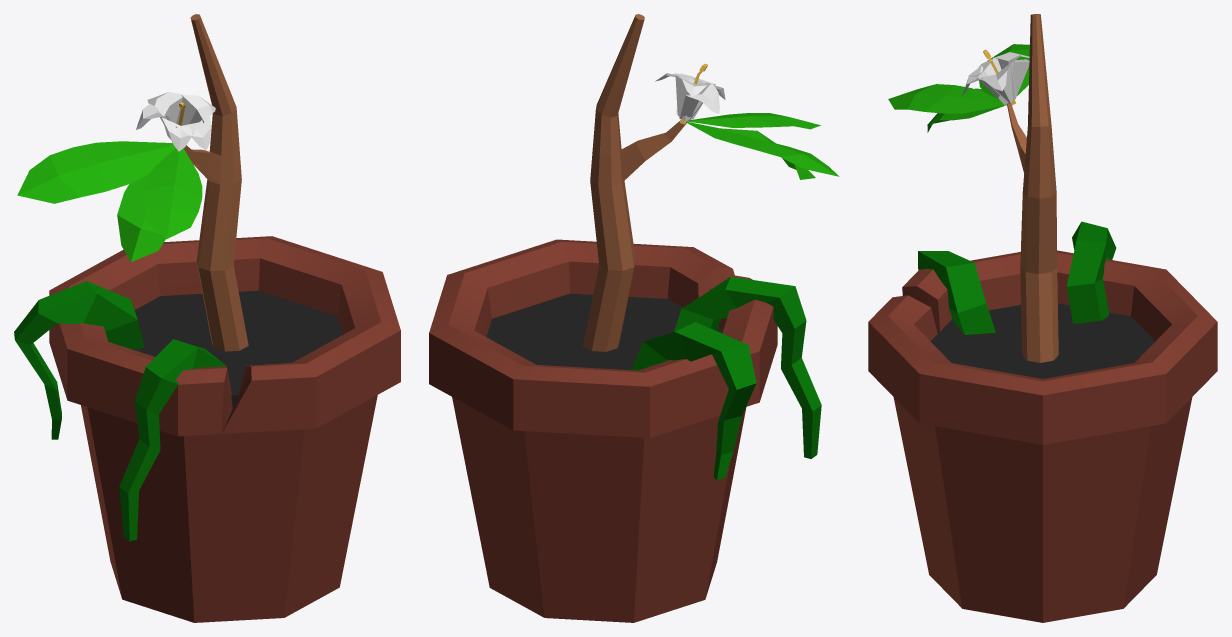
Rendered from PlantPot-2.fbx.
3 views of the same model, side by side, from view 1: azimuth 30°, elevation 25°; view 2: azimuth 150°, elevation 25°; view 3: azimuth 270°, elevation 25° (orthographic). The views are drawn at different scales.
Parts seen in each view (by area): view 1: PlantPot.Broken, Cylinder.001, Cylinder, Cube.001, Leaf, Cube, Plane.001, Leaf.001, FlowerLeaf, FlowerLeaf.001, FlowerLeaf.002; view 2: PlantPot.Broken, Cylinder.001, Cylinder, Cube, Cube.001, Leaf, Plane.001, FlowerLeaf.004, FlowerLeaf.001, Leaf.001; view 3: PlantPot.Broken, Cylinder.001, Cylinder, Cube.001, Cube, Plane.001, FlowerLeaf, Leaf, Leaf.001.
Boxes of the visible parts, <box> form: PlantPot.Broken: <box>49,236,400,622</box>; Cylinder.001: <box>183,14,248,351</box>; Cylinder: <box>133,290,342,407</box>; Cube.001: <box>14,281,144,439</box>; Leaf: <box>17,141,175,203</box>; Cube: <box>119,339,226,541</box>; Plane.001: <box>144,148,202,238</box>; Leaf.001: <box>117,170,165,261</box>; FlowerLeaf: <box>176,95,215,125</box>; FlowerLeaf.001: <box>147,92,184,140</box>; FlowerLeaf.002: <box>162,117,200,151</box>; PlantPot.Broken: <box>429,239,777,622</box>; Cylinder.001: <box>583,14,686,351</box>; Cylinder: <box>486,293,723,369</box>; Cube: <box>674,276,821,458</box>; Cube.001: <box>631,322,756,479</box>; Leaf: <box>686,122,839,176</box>; Plane.001: <box>689,113,820,129</box>; FlowerLeaf.004: <box>680,82,719,121</box>; FlowerLeaf.001: <box>675,75,712,121</box>; Leaf.001: <box>688,122,815,179</box>; PlantPot.Broken: <box>868,250,1217,622</box>; Cylinder.001: <box>1007,14,1058,362</box>; Cylinder: <box>930,303,1155,378</box>; Cube.001: <box>1066,221,1116,323</box>; Cube: <box>918,251,995,334</box>; Plane.001: <box>888,84,1007,113</box>; FlowerLeaf: <box>977,62,1015,103</box>; Leaf: <box>979,44,1029,99</box>; Leaf.001: <box>927,88,1006,132</box>.
Size of the model in its own units: 423 by 604 by 350.
